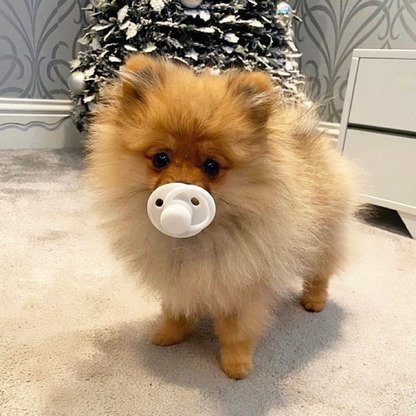Pomeranian: (76, 60, 382, 384)
